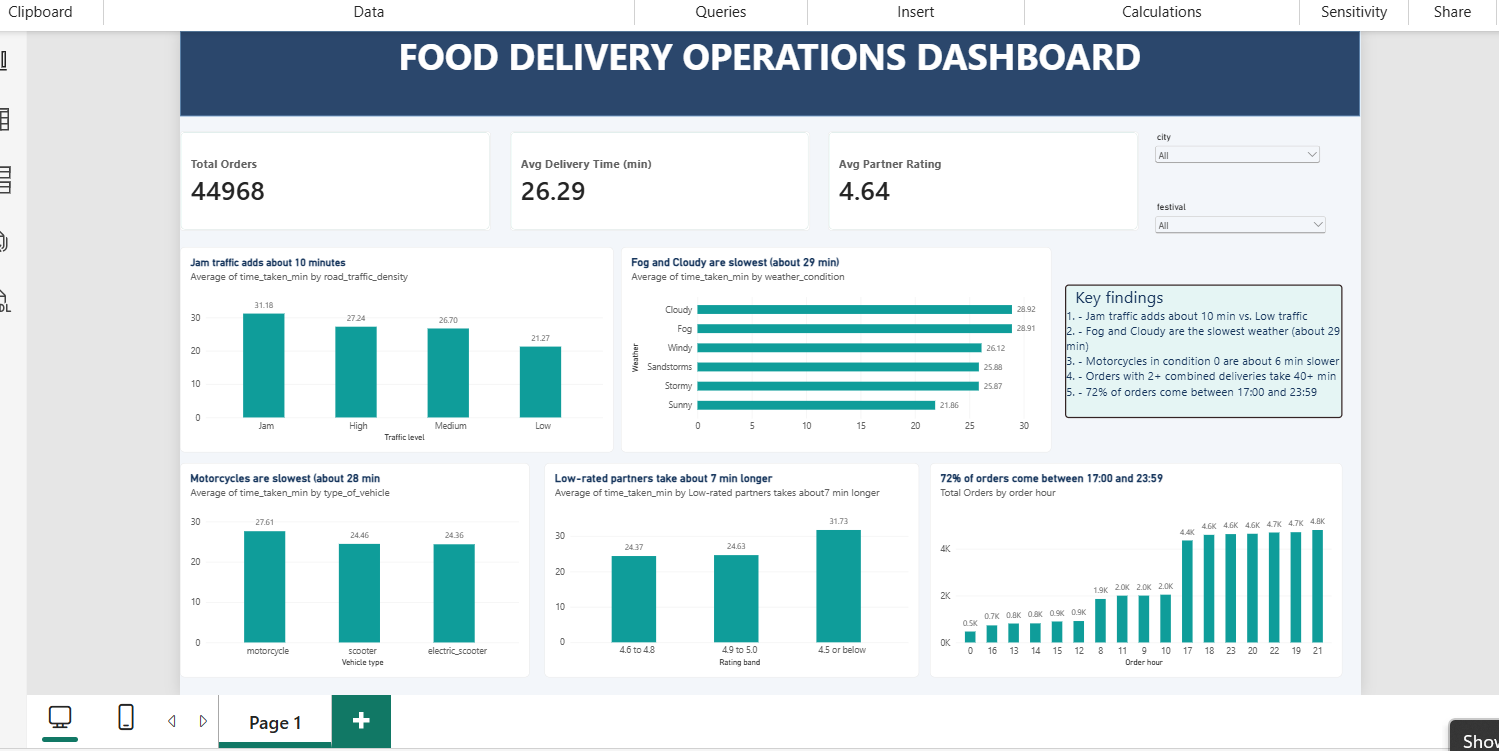

The dashboard page shown, as its layout file describes it:
{"tool":"powerbi","page":{"name":"Page 1","canvas":[1920,1080],"ordinal":0},"visuals":[{"type":"cardVisual","fields":{"Data":["food_delivery_clean.Total Orders"]},"box":[0,163.5,505,161],"z":0},{"type":"cardVisual","fields":{"Data":["Avg(food_delivery_clean.delivery_person_ratings)"]},"box":[1054,163.5,505,161],"z":1000},{"type":"clusteredColumnChart","title":"Jam traffic adds about 10 minutes","fields":{"Category":["food_delivery_clean.road_traffic_density"],"Y":["Avg(food_delivery_clean.time_taken_min)"]},"box":[0,351.3,705.1,334.3],"z":2000},{"type":"clusteredBarChart","title":"\tFog and Cloudy are slowest (about 29 min)","fields":{"Category":["food_delivery_clean.weather_conditions"],"Y":["Avg(food_delivery_clean.time_taken_min)"]},"box":[717.3,351.3,700.2,334.3],"z":3000},{"type":"clusteredColumnChart","title":"\tMotorcycles are slowest (about 28 min","fields":{"Category":["food_delivery_clean.type_of_vehicle"],"Y":["Avg(food_delivery_clean.time_taken_min)"]},"box":[0,702.7,568.5,348.9],"z":4000},{"type":"clusteredColumnChart","title":"\tLow-rated partners take about 7 min longer","fields":{"Category":["food_delivery_clean.Rating Band"],"Y":["Avg(food_delivery_clean.time_taken_min)"]},"box":[592.9,702.7,609.5,348.7],"z":5000},{"type":"clusteredColumnChart","title":"72% of orders come between 17:00 and 23:59","fields":{"Category":["food_delivery_clean.order_hour"],"Y":["food_delivery_clean.Total Orders"]},"box":[1219.9,702.7,670.9,348.9],"z":6000},{"type":"textbox","box":[0,0,1919.1,138.9],"z":7000},{"type":"cardVisual","fields":{"Data":["Avg(food_delivery_clean.time_taken_min)"]},"box":[536.8,163.5,488,161],"z":8000},{"type":"slicer","fields":{"Values":["food_delivery_clean.festival"]},"box":[1581,278.1,287.9,124.4],"z":9000},{"type":"slicer","fields":{"Values":["food_delivery_clean.city"]},"box":[1581,163.5,278.1,114.7],"z":10000},{"type":"textbox","box":[1439.5,412.3,451.4,217.1],"z":11000}]}

Visuals, with their boxes on the page's 1920x1080 design canvas (x1, y1, x2, y2). These are canvas units, not pixel positions in the 1499x751 screenshot, which may show the page scaled, cropped or inside an application window:
cardVisual - food_delivery_clean.Total Orders: rect(0, 164, 505, 324)
cardVisual - Avg(food_delivery_clean.delivery_person_ratings): rect(1054, 164, 1559, 324)
"Jam traffic adds about 10 minutes" clusteredColumnChart: rect(0, 351, 705, 686)
"	Fog and Cloudy are slowest (about 29 min)" clusteredBarChart: rect(717, 351, 1418, 686)
"	Motorcycles are slowest (about 28 min" clusteredColumnChart: rect(0, 703, 568, 1052)
"	Low-rated partners take about 7 min longer" clusteredColumnChart: rect(593, 703, 1202, 1051)
"72% of orders come between 17:00 and 23:59" clusteredColumnChart: rect(1220, 703, 1891, 1052)
textbox: rect(0, 0, 1919, 139)
cardVisual - Avg(food_delivery_clean.time_taken_min): rect(537, 164, 1025, 324)
slicer - food_delivery_clean.festival: rect(1581, 278, 1869, 402)
slicer - food_delivery_clean.city: rect(1581, 164, 1859, 278)
textbox: rect(1440, 412, 1891, 629)
